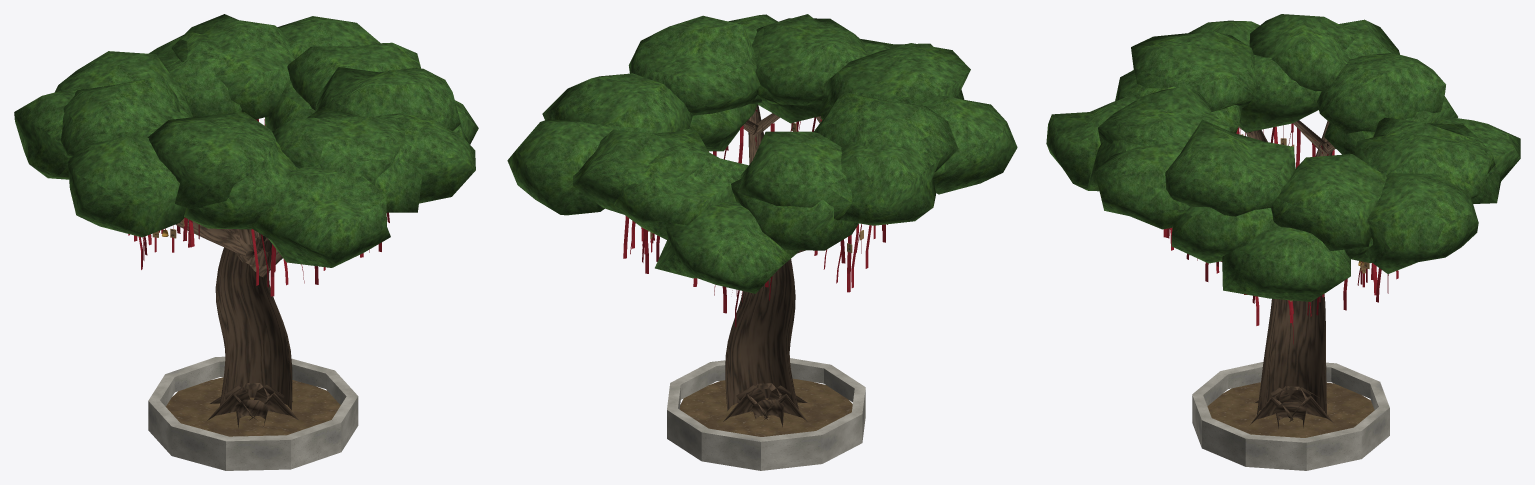
The model's file is wishing_tree.glb.
The picture shows the model from 3 angles, left to right: view 1: azimuth 30°, elevation 25°; view 2: azimuth 150°, elevation 25°; view 3: azimuth 270°, elevation 25°; orthographic projection. The views are drawn at different scales.
Visible parts, largest first — view 1: WishTreeLeaves, WishTree, TreeRing, TreeSoil, Ribbons; view 2: WishTreeLeaves, TreeRing, WishTree, TreeSoil, Ribbons; view 3: WishTreeLeaves, TreeRing, WishTree, TreeSoil, Ribbons.
Boxes of the visible parts, x1,y1,x2,y2 form: WishTreeLeaves: [14, 14, 478, 267]; WishTree: [176, 219, 299, 427]; TreeRing: [148, 356, 358, 470]; TreeSoil: [166, 377, 340, 436]; Ribbons: [128, 119, 389, 296]; WishTreeLeaves: [507, 14, 1017, 293]; TreeRing: [667, 358, 865, 470]; WishTree: [723, 104, 821, 427]; TreeSoil: [679, 378, 852, 436]; Ribbons: [623, 110, 887, 327]; WishTreeLeaves: [1046, 14, 1520, 301]; TreeRing: [1192, 362, 1389, 470]; WishTree: [1238, 120, 1335, 428]; TreeSoil: [1207, 382, 1374, 437]; Ribbons: [1163, 123, 1398, 343].
Size of what is drawn, in the model's own units: 6.33 by 5.38 by 6.4.
8 materials, 8 textured.
